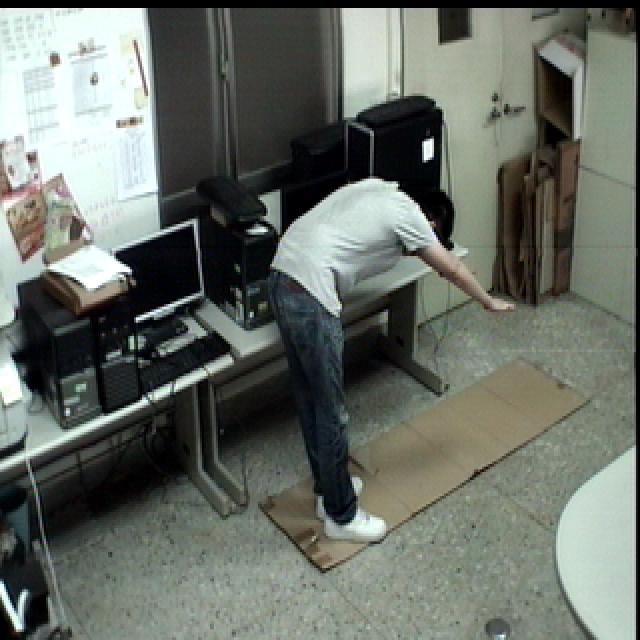bend: (260, 171, 520, 540)
